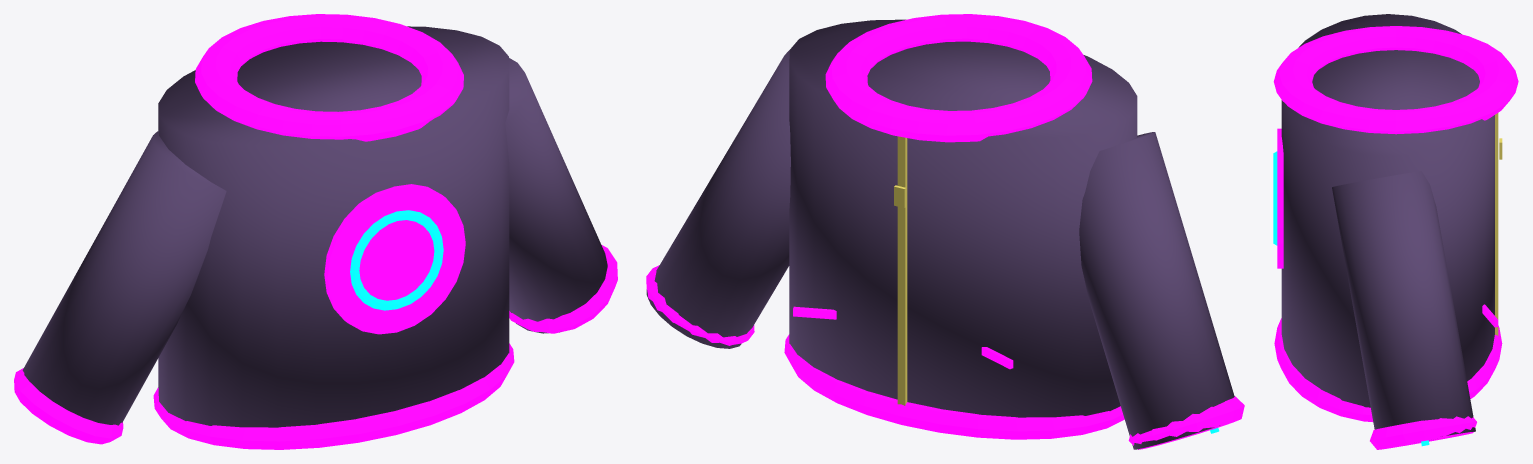
The model's file is vip_bomber.glb.
3 renders of one model, left to right at view 1: azimuth 30°, elevation 25°; view 2: azimuth 150°, elevation 25°; view 3: azimuth 270°, elevation 25°, orthographic. The views are drawn at different scales.
Parts seen in each view (by area): view 1: VipBomberJacket; view 2: VipBomberJacket; view 3: VipBomberJacket.
Boxes of the visible parts, x1,y1,x2,y2 form: VipBomberJacket: [14, 14, 617, 449]; VipBomberJacket: [646, 14, 1244, 449]; VipBomberJacket: [1273, 14, 1518, 449].
Size of the model in its own units: 0.7658 by 0.4052 by 0.314.
